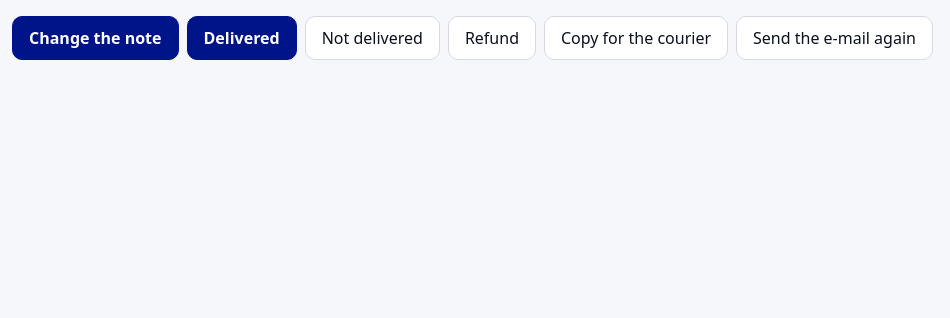
Test: not delivered asks why › refuses to send without a reason
Click the button "Not delivered": click(372, 38) [305,16,440,60]
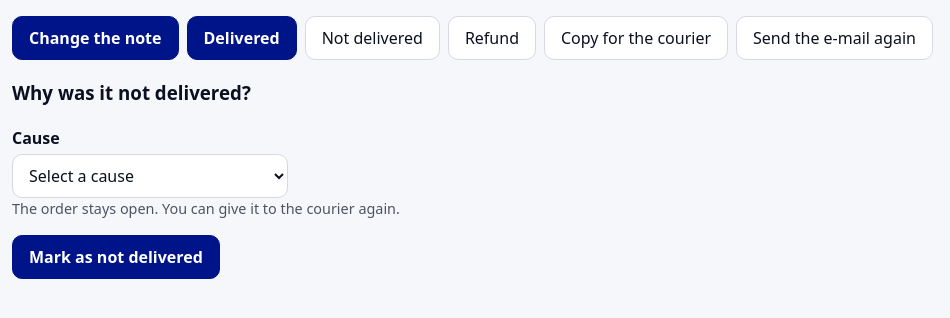
Click the button "Mark as not delivered": click(116, 257) [12,235,220,279]
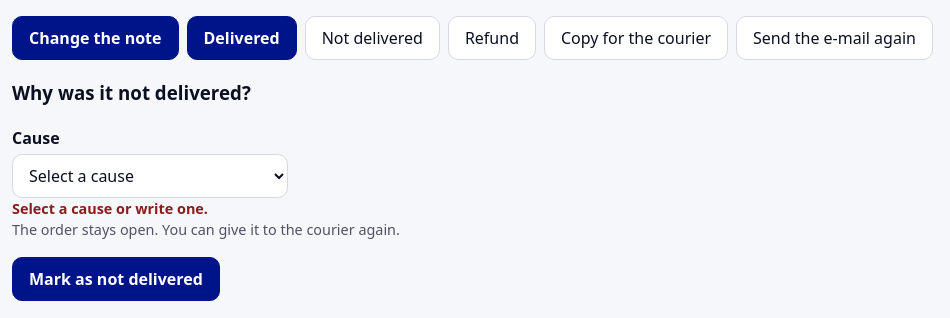
Now the text "Select a cause or write one." is shown, box [12,198,208,218]
